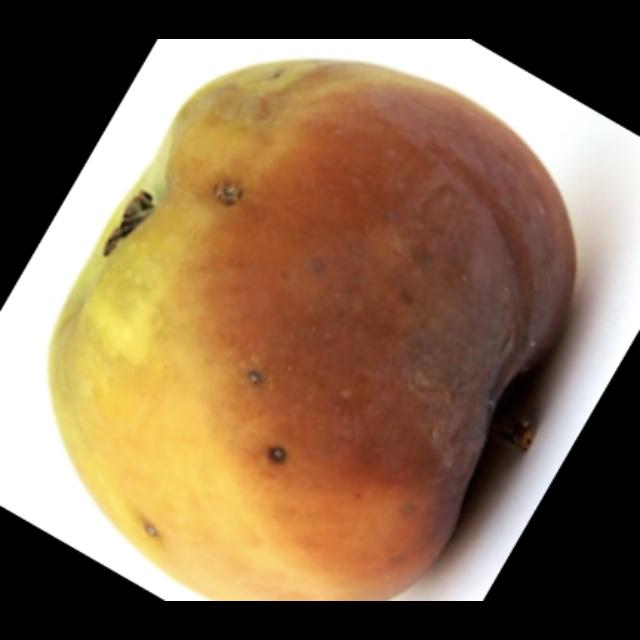Apel Tidak Segar: (40, 64, 576, 602)
